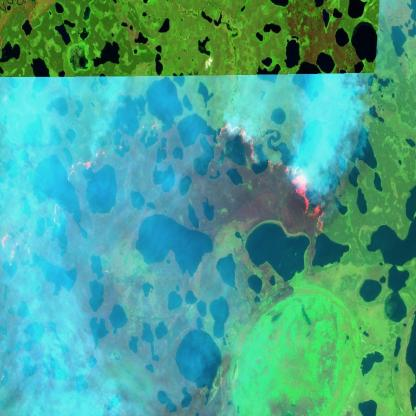fire: (209, 118, 332, 237), (0, 197, 66, 276), (56, 138, 111, 188)
